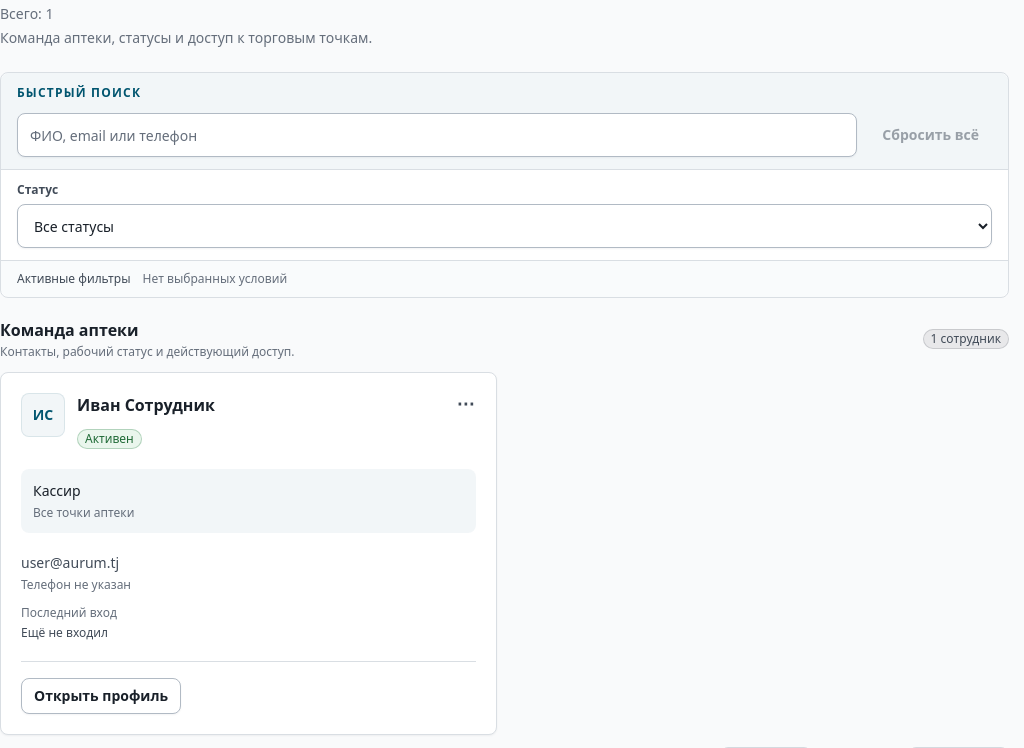
UsersPage › opens employee details with view-only access and restores focus after closing
The width and height of the screenshot is (1024, 748).
Click the button with aria-label "Открыть профиль: Иван Сотрудник" at coordinates (101, 696), box 21,678 -> 181,714
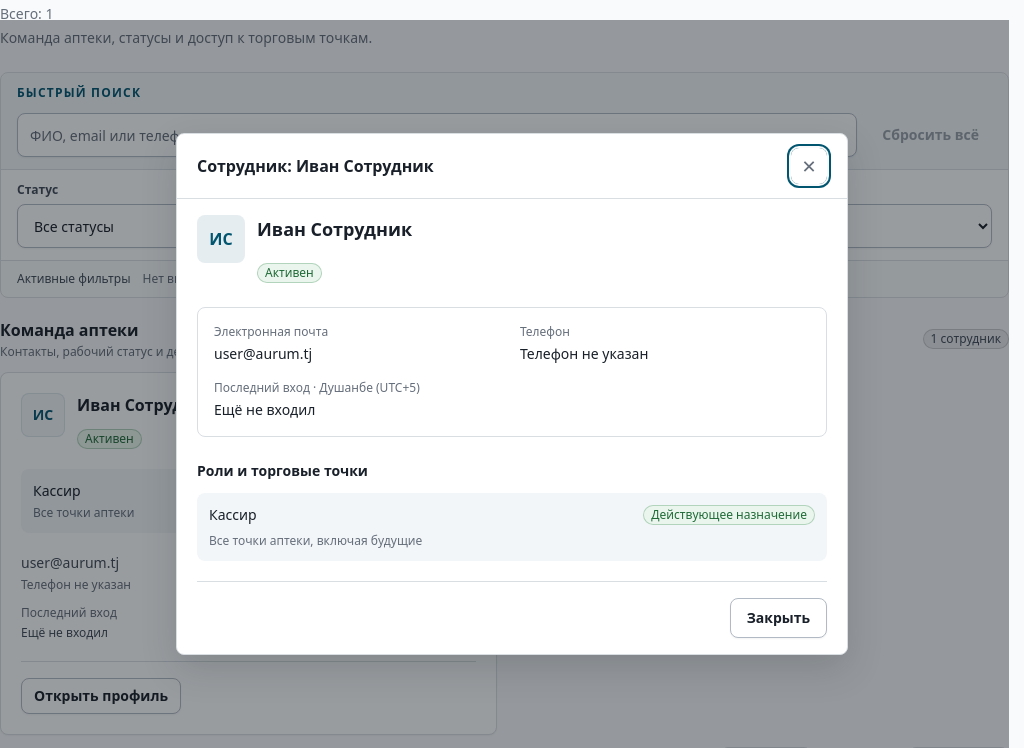
Result: the text "user@aurum.tj" is shown at 214,344 -> 312,363
Result: the text "Кассир" is shown at 209,505 -> 257,525
Click the button "Закрыть" at coordinates (778, 618), box 730,598 -> 827,638
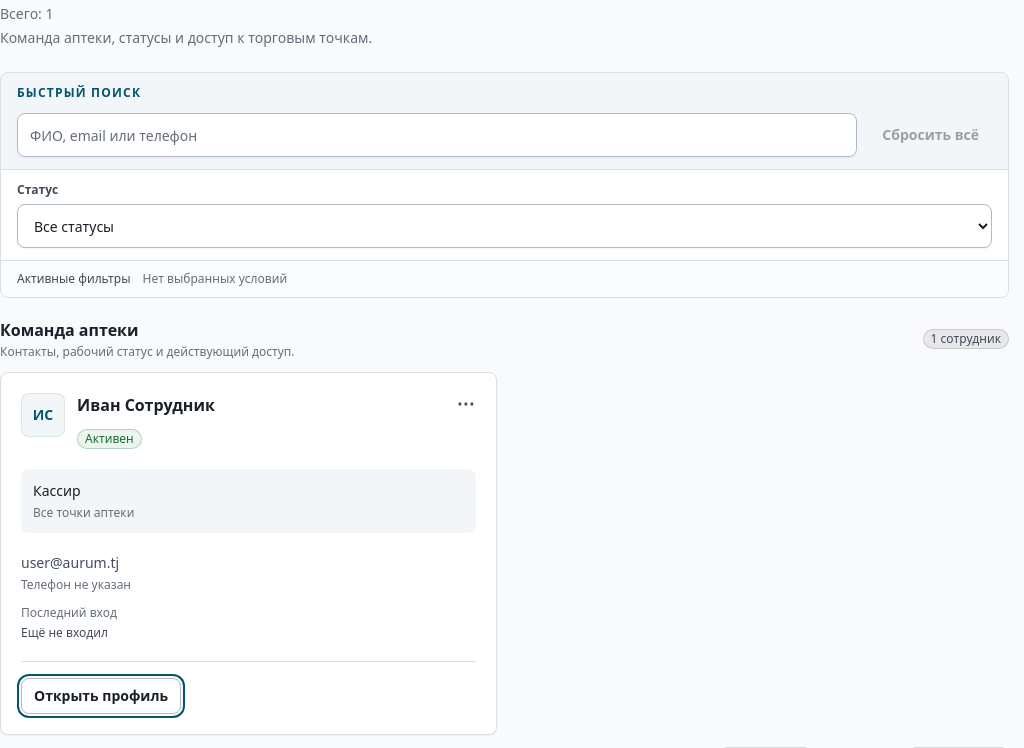
Result: the heading "Сотрудник: Иван Сотрудник" is gone
